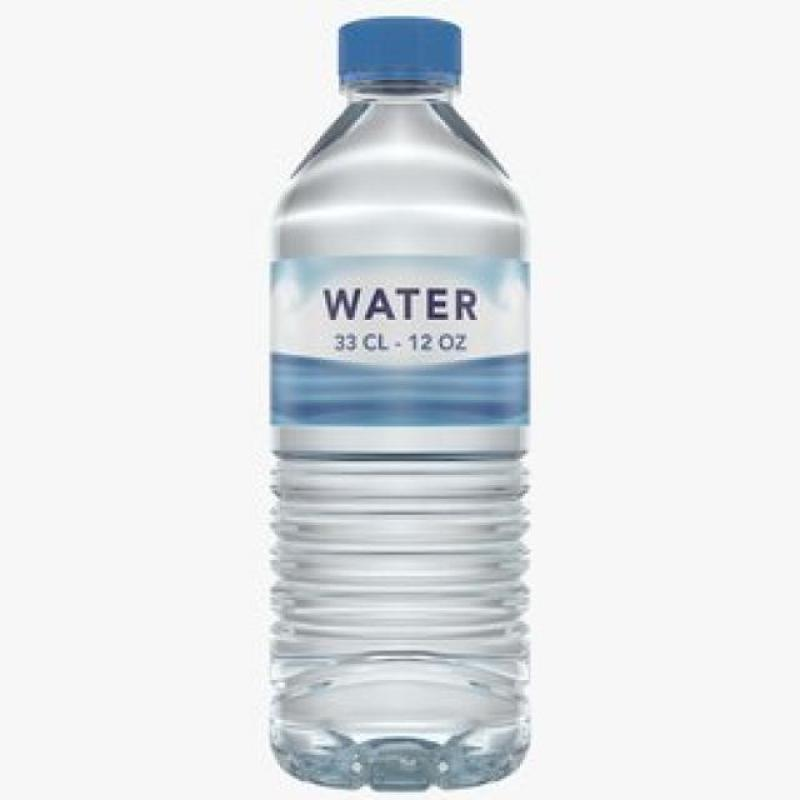botella: (268, 17, 532, 792)
